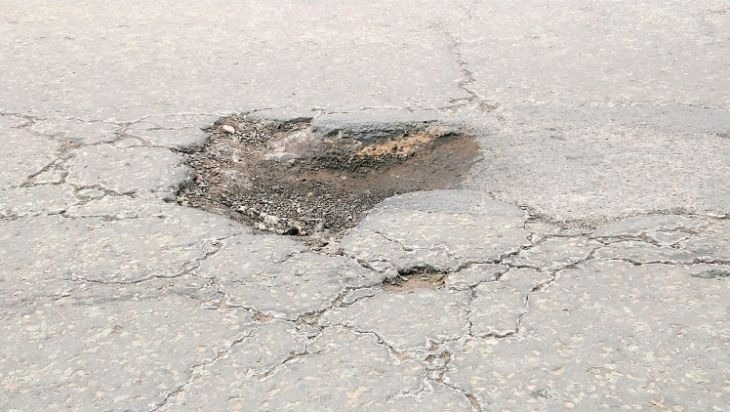pothole: (161, 100, 483, 254)
